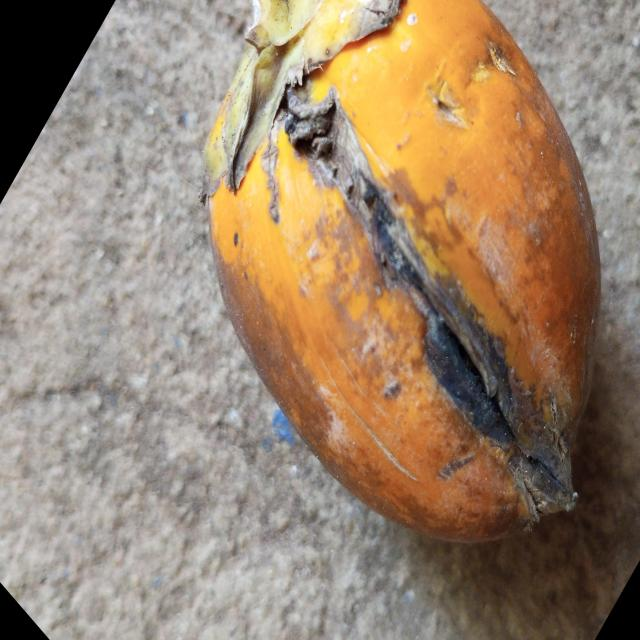damaged: (203, 0, 602, 548)
